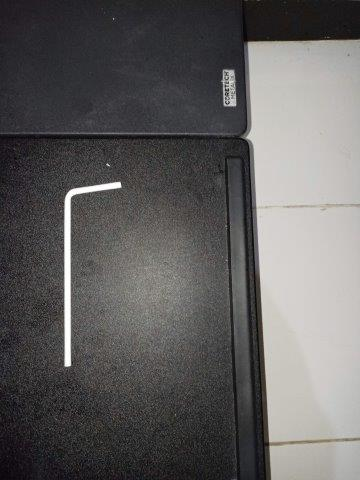sedotan: (63, 182, 122, 365)
